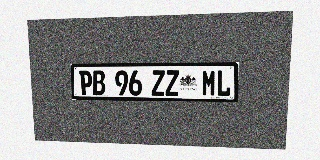6: (128, 70, 142, 95)
9: (115, 70, 128, 95)
B: (92, 70, 105, 95)
L: (216, 70, 231, 96)
M: (202, 70, 216, 96)
P: (79, 70, 92, 95)
Z: (151, 70, 165, 96), (165, 70, 179, 96)
